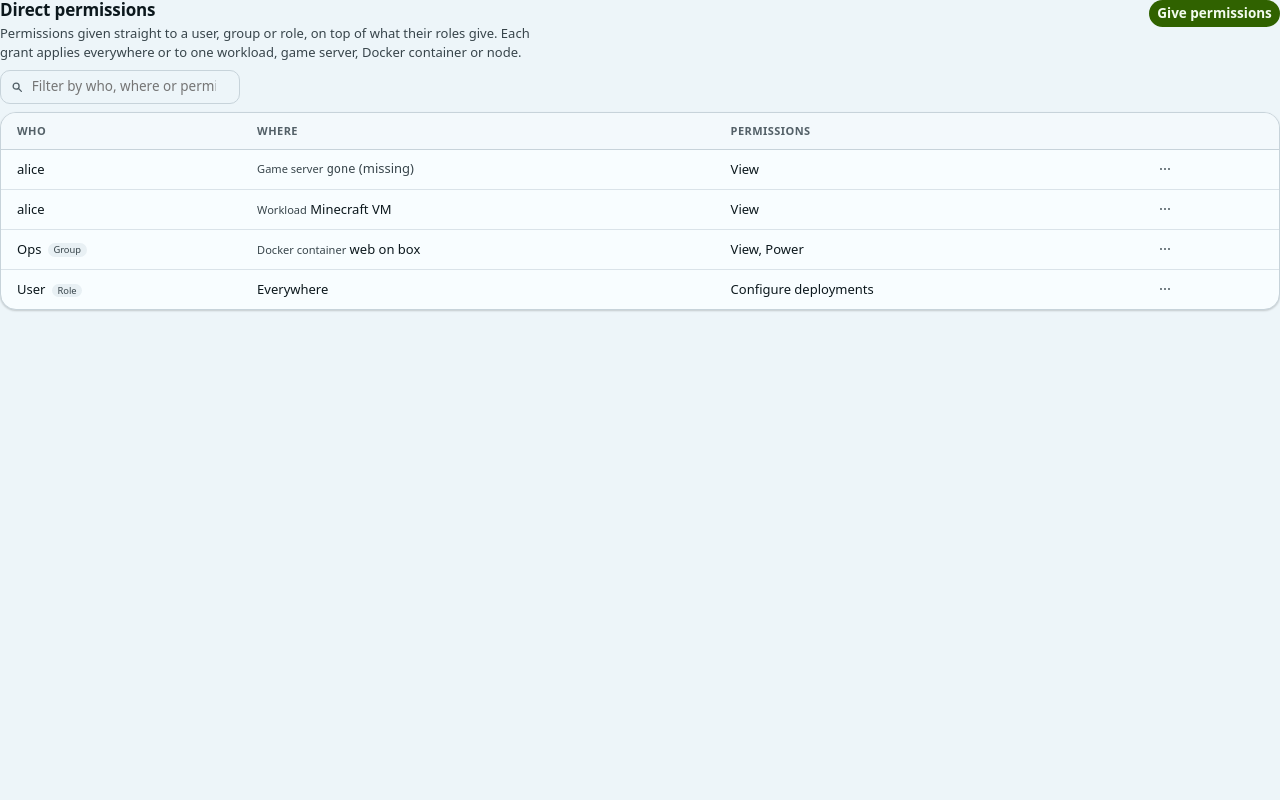
Test: ItemAccessPanel › hides Everything and the override from an Admin
Expected: the table is shown, [1, 113, 1279, 309]
What coordinates should you click on to do the following:
click the button "Give permissions"
I would click on:
 (1215, 14)
Its box is [1149, 0, 1279, 27].
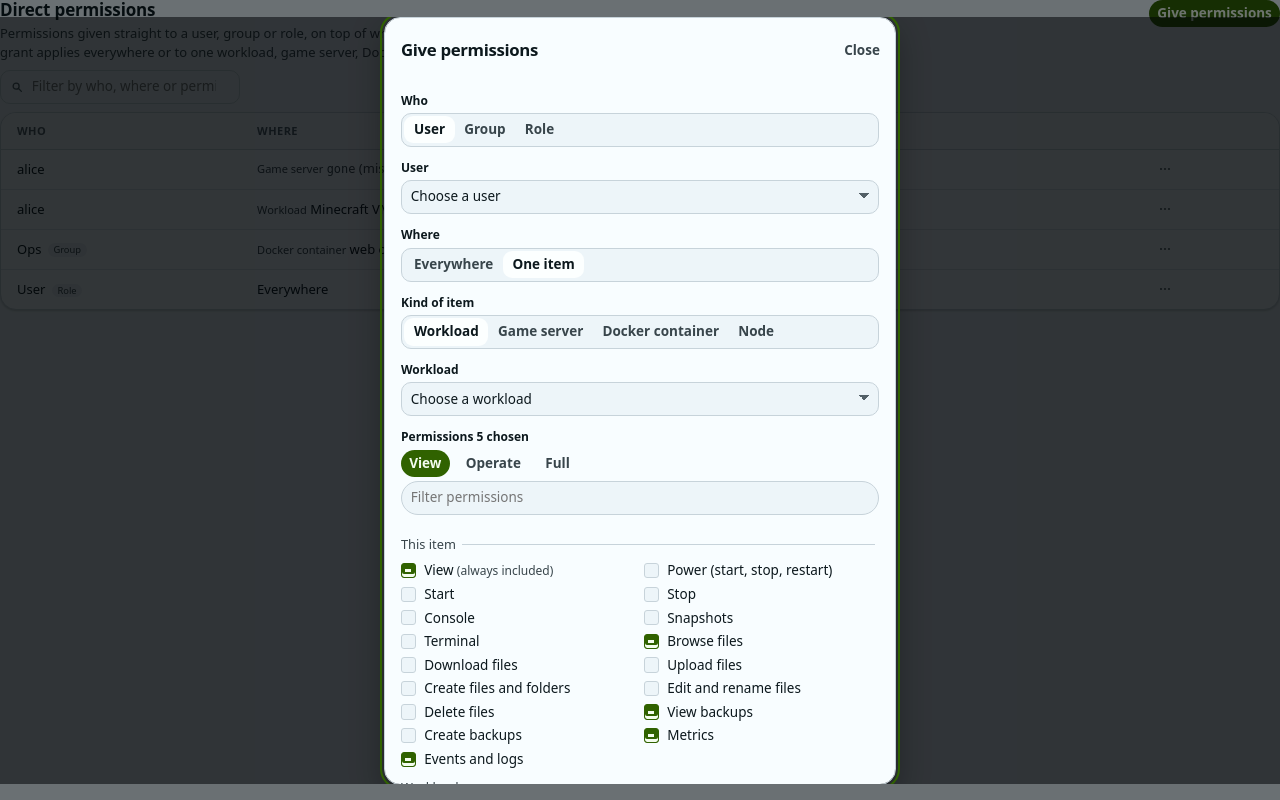
What coordinates should you click on to do the following:
click the button "Everywhere"
I would click on:
 (454, 265)
Its box is [404, 251, 503, 278].
(page scrolled)
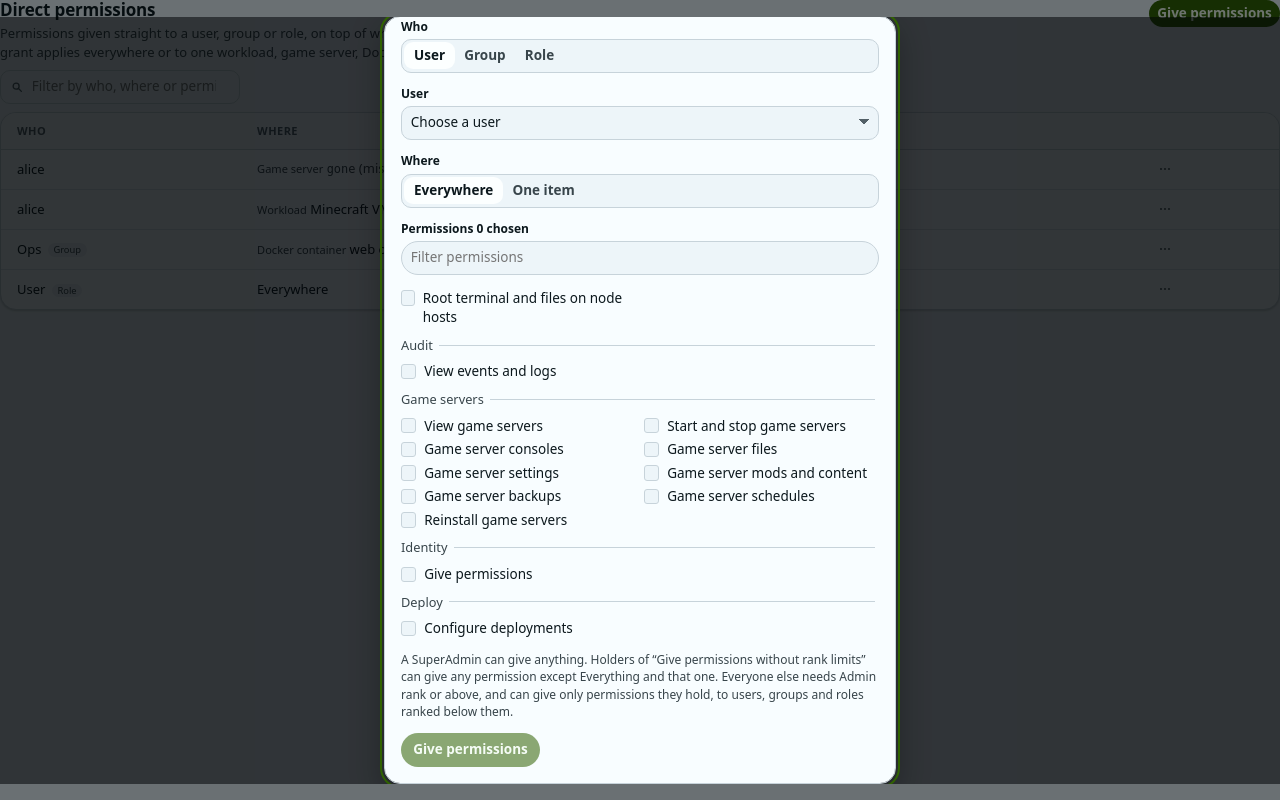
What coordinates should you click on to do the following:
click the checkbox labelled "Give permissions"
I would click on:
 (409, 574)
Its box is [401, 566, 416, 582].
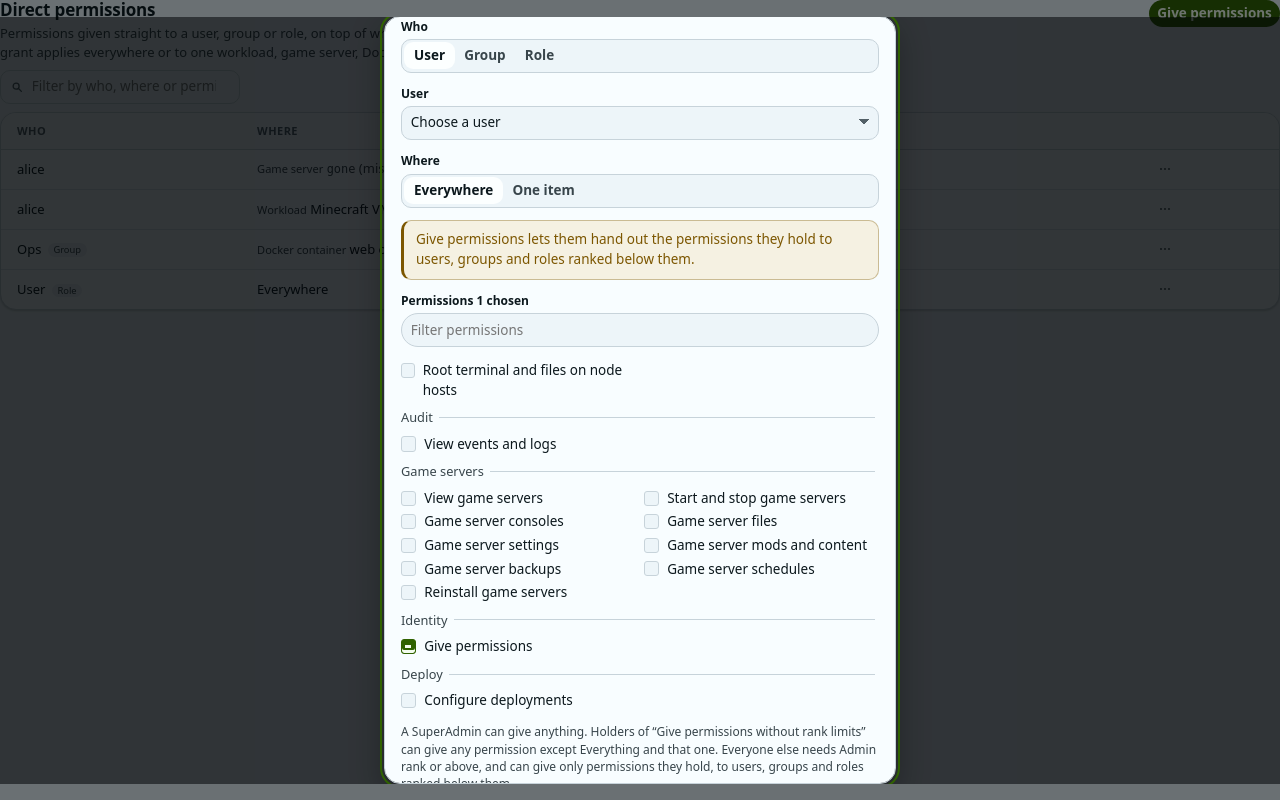
Expected: the text "hand out the permissions they hold" is shown, [416, 230, 832, 268]
